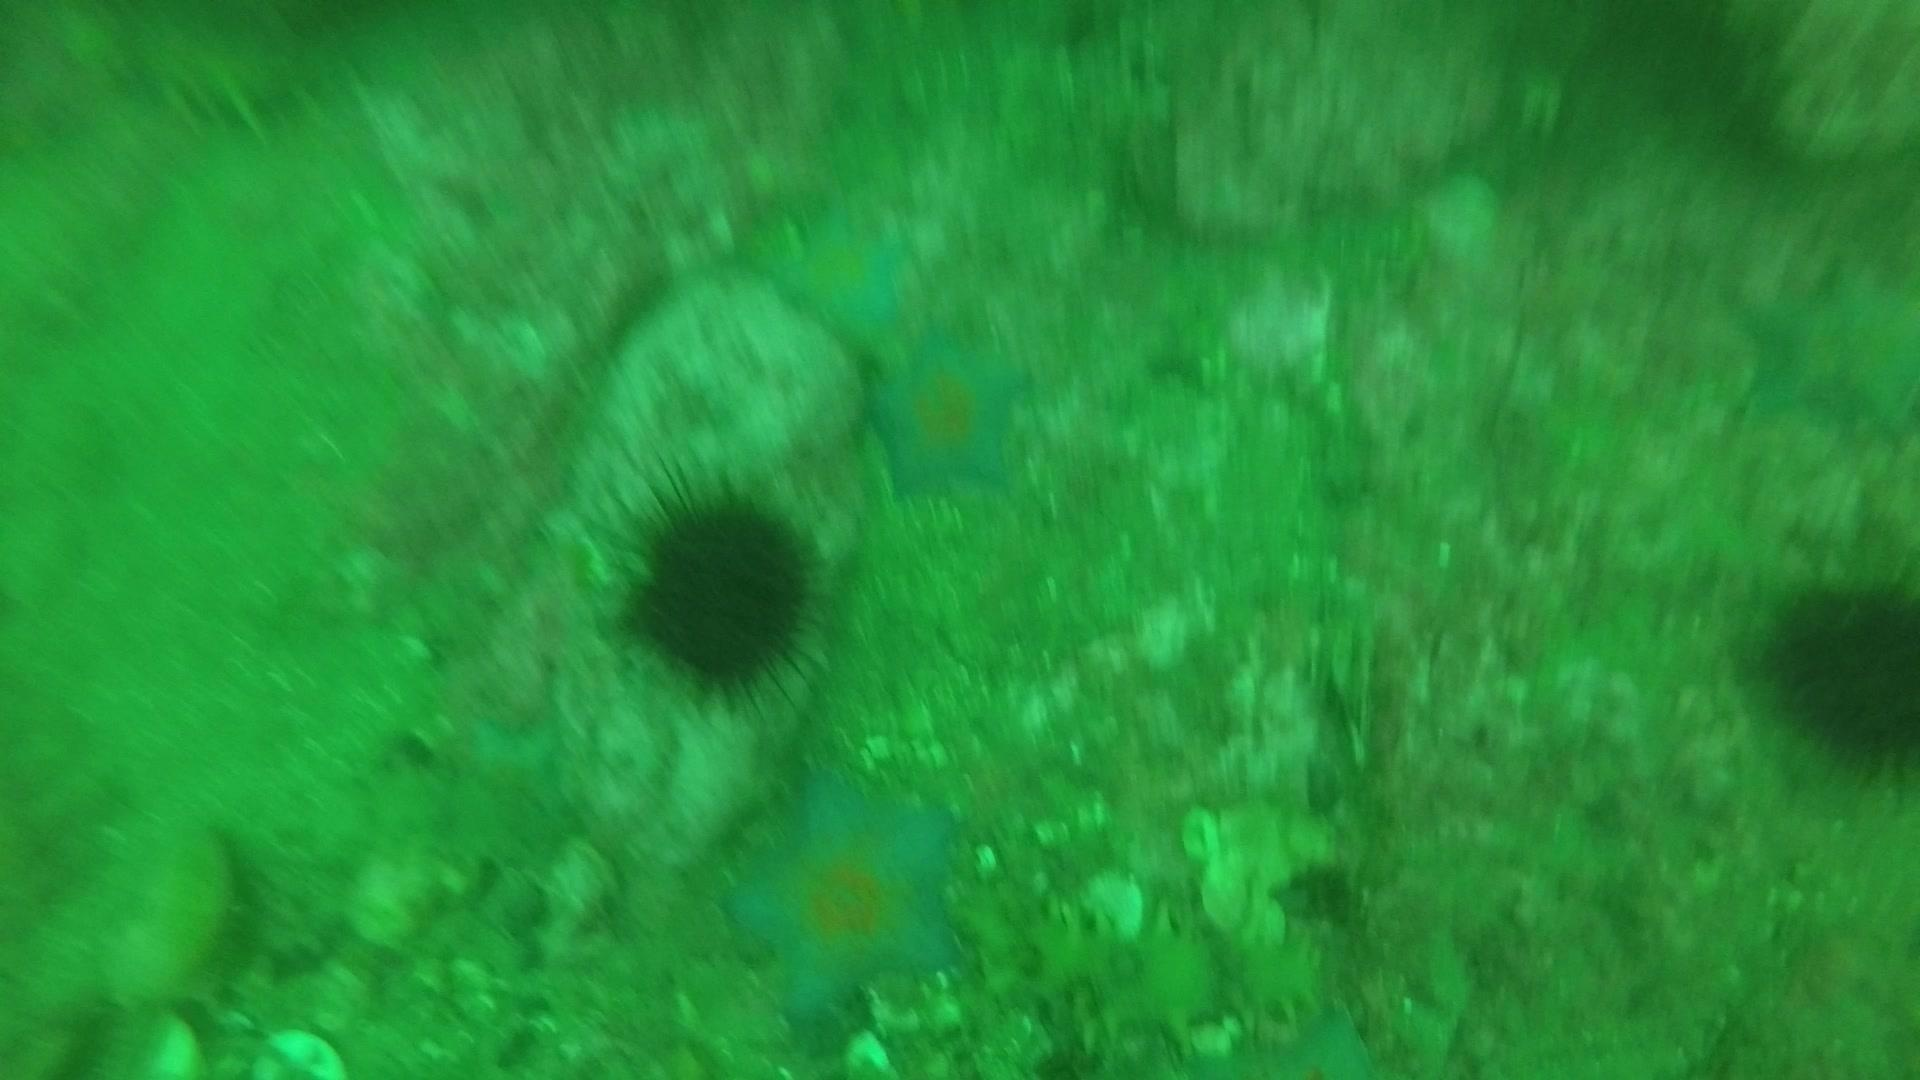echinus: (613, 473, 829, 707), (1754, 564, 1917, 789)
holothurian: (978, 884, 1346, 1054), (1, 105, 193, 371), (26, 1, 371, 125)
starfish: (719, 765, 971, 1034), (1725, 252, 1917, 444), (861, 328, 1036, 506), (767, 200, 928, 357), (1208, 994, 1383, 1073)
